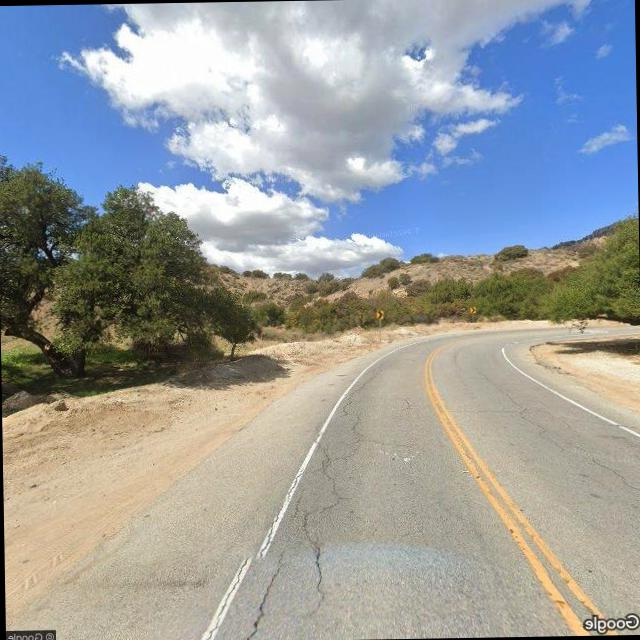pothole: (250, 373, 373, 640)
